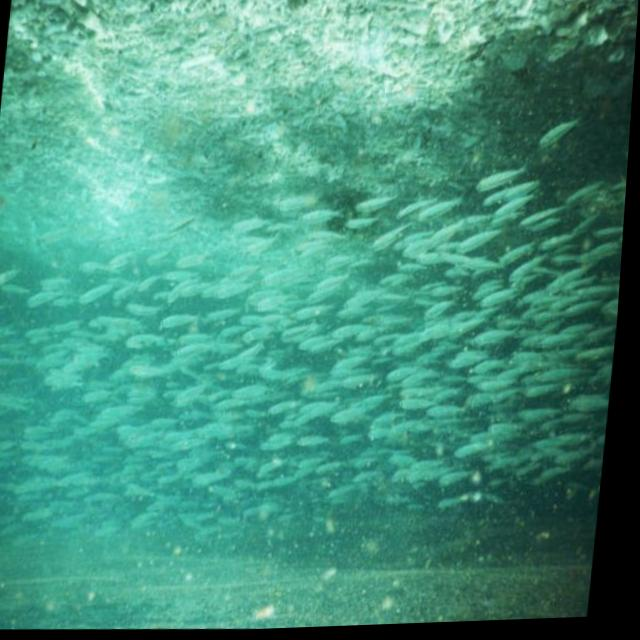Dead Coral: (16, 0, 513, 199)
